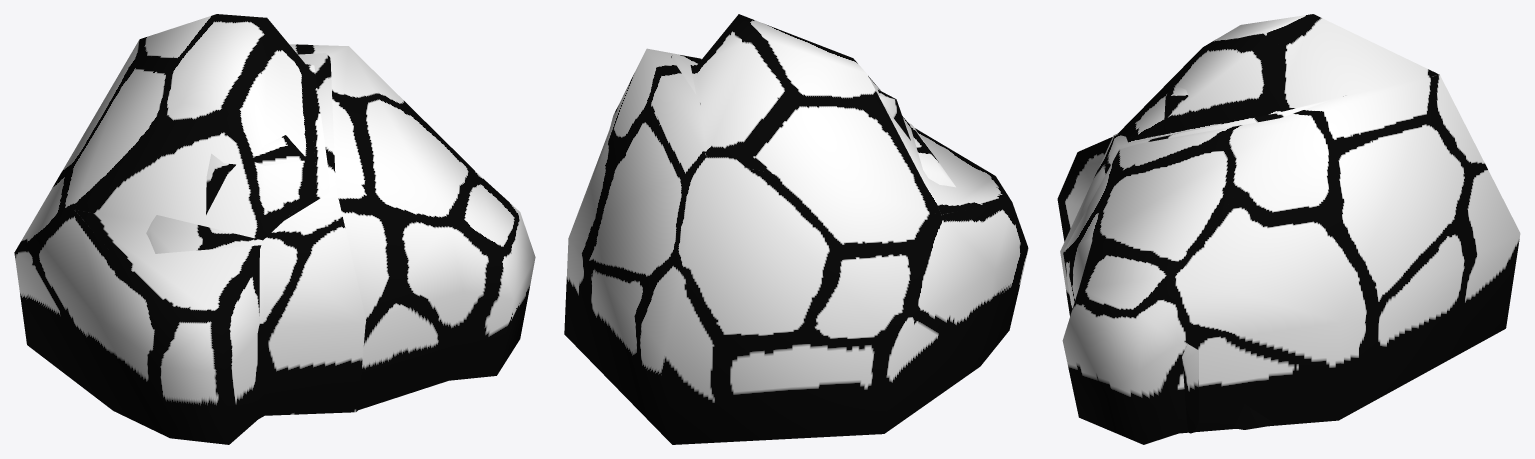
Rendered from ITEM06.fbx.
3 views of the same model, side by side, from view 1: azimuth 30°, elevation 25°; view 2: azimuth 150°, elevation 25°; view 3: azimuth 270°, elevation 25° (orthographic). The views are drawn at different scales.
Visible parts, largest first — view 1: Item_06_01.003, Item_06_01.004, Item_06_01.002; view 2: Item_06_01.003, Item_06_01.004, Item_06_01.002; view 3: Item_06_01.003, Item_06_01.004, Item_06_01.002.
Boxes of the visible parts, left/top/right/bottom form: Item_06_01.003: left=14, top=14, right=535, bottom=444; Item_06_01.004: left=146, top=53, right=366, bottom=418; Item_06_01.002: left=206, top=135, right=316, bottom=214; Item_06_01.003: left=564, top=14, right=1028, bottom=444; Item_06_01.004: left=671, top=54, right=955, bottom=187; Item_06_01.002: left=878, top=89, right=910, bottom=140; Item_06_01.003: left=1057, top=14, right=1520, bottom=444; Item_06_01.004: left=1060, top=100, right=1330, bottom=433; Item_06_01.002: left=1163, top=84, right=1276, bottom=429.
Size of the model in its own units: 1.48 by 1.11 by 1.45.
